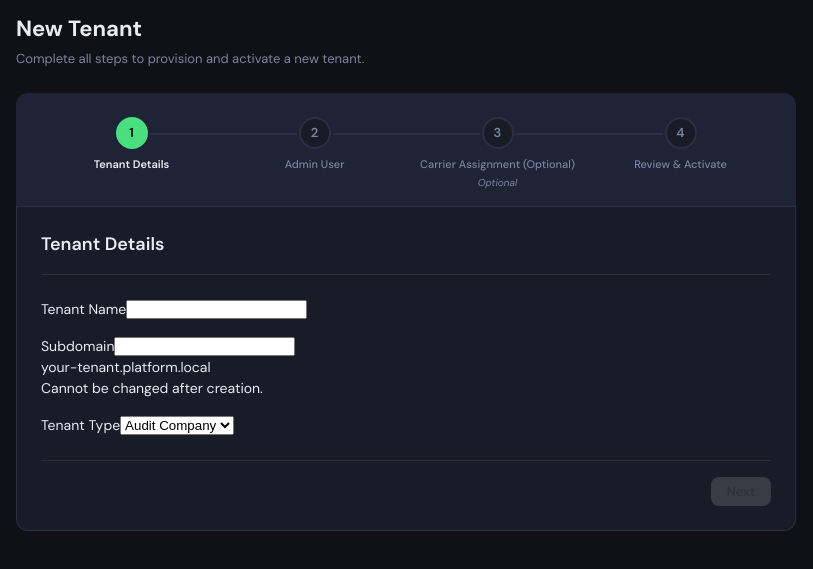
Test case: TenantCreationWizard › step 1: rejects slug not matching regex pattern
The width and height of the screenshot is (813, 569).
Type "-invalid" into the field labelled "Subdomain" at point(205, 346), box top-left (114, 337), bottom-right (296, 356)
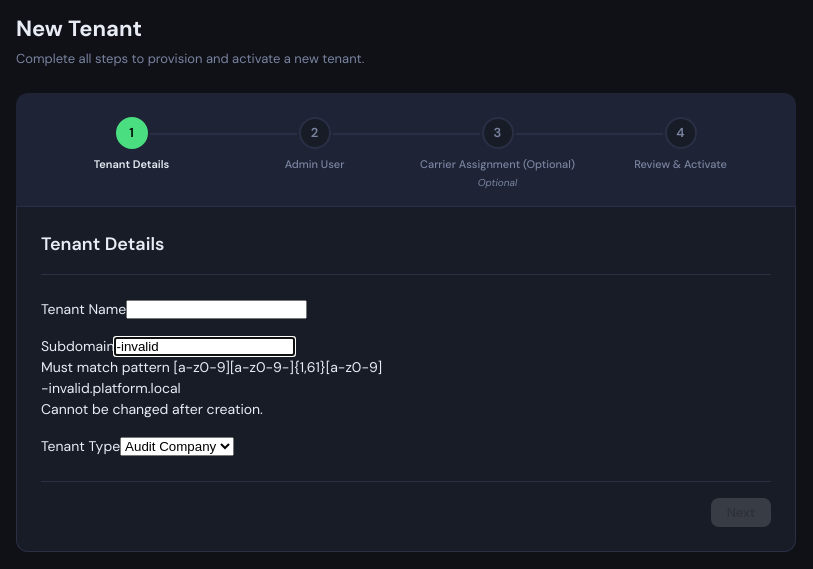
Expected: the message "Must match pattern [a-z0-9][a-z0-9-]{1,61}[a-z0-9]" is shown, top-left (41, 358), bottom-right (382, 376)
